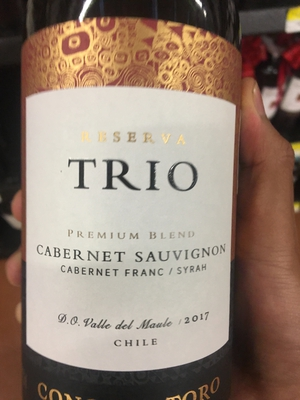trio cabernet sauvignon: (22, 5, 248, 400)
